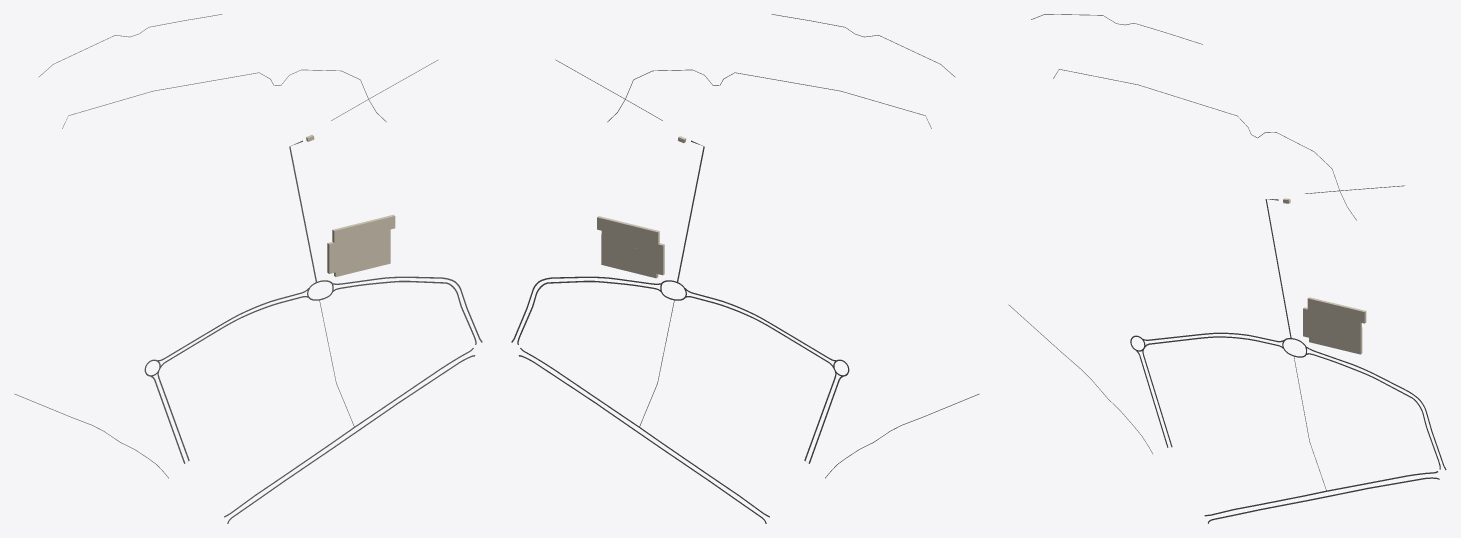
File: historic-palestine-07_30_3494_3249.glb
3 renders of one model, left to right at view 1: azimuth 30°, elevation 25°; view 2: azimuth 150°, elevation 25°; view 3: azimuth 330°, elevation 25°, orthographic. The views are drawn at different scales.
Visible parts, largest first — view 1: Building_.001, Road הכורם.001; view 2: Building_.001, Road הכורם.001; view 3: Building_.001.
Boxes of the visible parts, x1,y1,x2,y2 form: Building_.001: (327,214,395,276); Road הכורם.001: (227,355,475,523); Building_.001: (597,216,664,278); Road הכורם.001: (518,355,766,523); Building_.001: (1303,297,1366,354).
Bounding box in the file's own units: 1148 × 1210 × 8.7.
